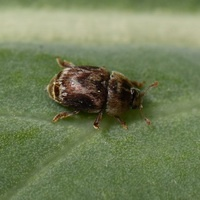insect: (47, 58, 158, 128)
